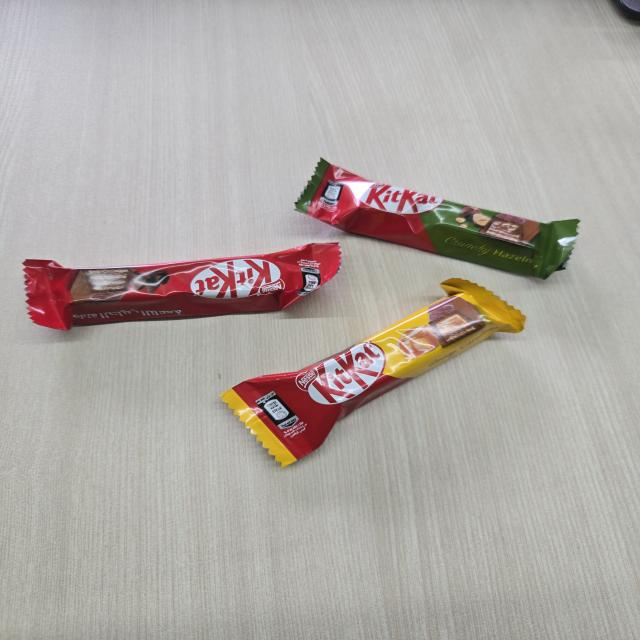chocolate-bar: (216, 272, 534, 479), (288, 149, 583, 287), (26, 238, 351, 335)
